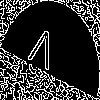V: (25, 25, 58, 80)
